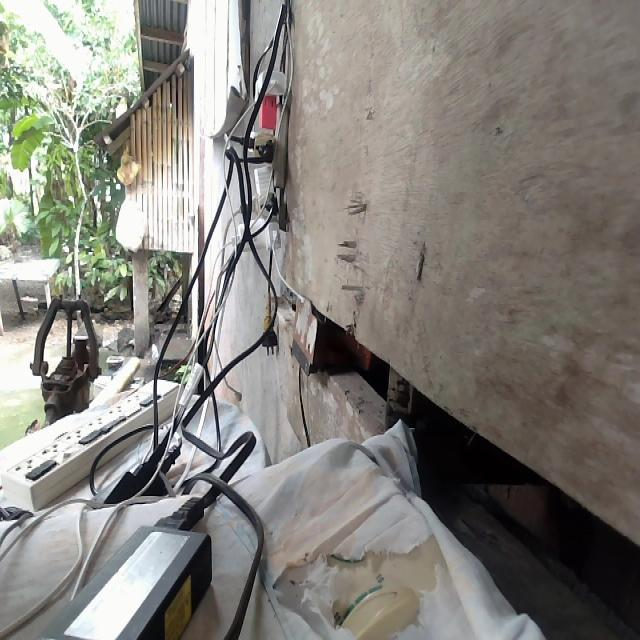-: (232, 71, 289, 252)
